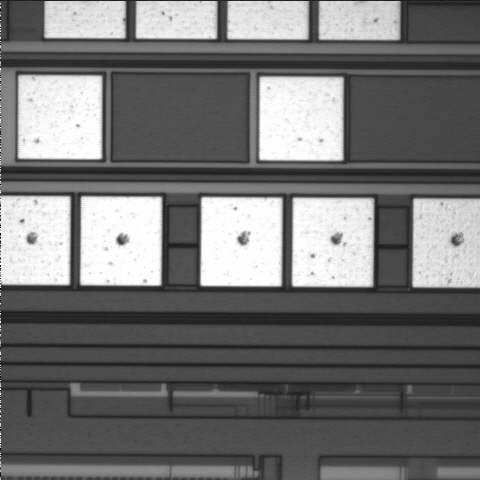pad: (80, 196, 162, 286), (200, 197, 282, 286), (292, 198, 374, 287), (18, 75, 102, 159), (259, 77, 343, 161)
